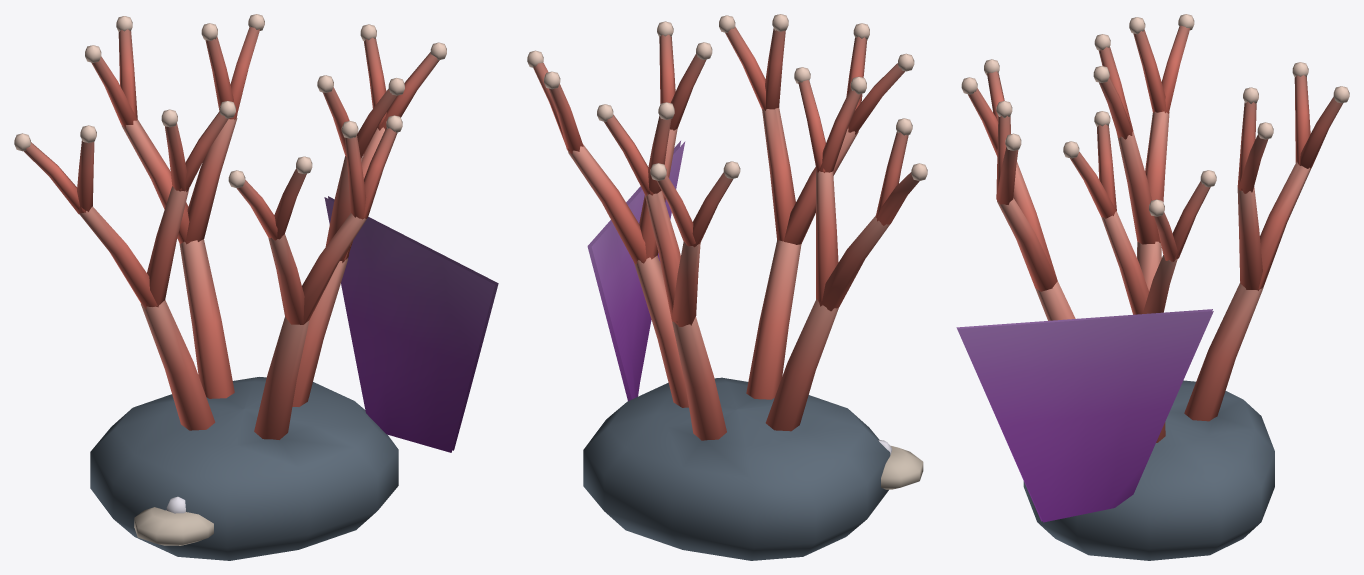
File: coral.glb
3 views of the same model, side by side, from view 1: azimuth 30°, elevation 25°; view 2: azimuth 150°, elevation 25°; view 3: azimuth 270°, elevation 25° (orthographic). The views are drawn at different scales.
Parts seen in each view (by area): view 1: coral; view 2: coral; view 3: coral.
Boxes of the visible parts, x1,y1,x2,y2 form: coral: (14,14,498,560); coral: (527,14,927,560); coral: (956,14,1349,560).
Bounding box in the file's own units: 2.18 × 2.31 × 1.84.
